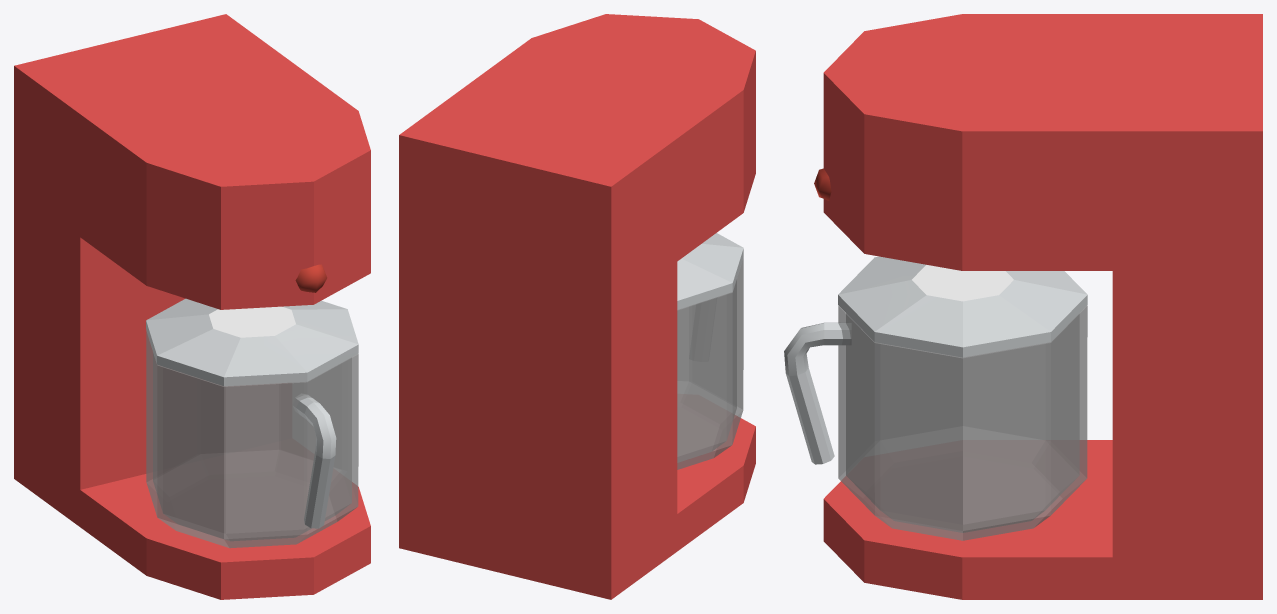
Rendered from Cafe Machine lv1.fbx.
3 renders of one model, left to right at view 1: azimuth 30°, elevation 25°; view 2: azimuth 150°, elevation 25°; view 3: azimuth 270°, elevation 25°, orthographic. The views are drawn at different scales.
Visible parts, largest first — view 1: Cafe_Machine_lv1; view 2: Cafe_Machine_lv1; view 3: Cafe_Machine_lv1.
Part boxes in pixels (<box>): Cafe_Machine_lv1: <box>14,14,370,599</box>; Cafe_Machine_lv1: <box>399,14,755,599</box>; Cafe_Machine_lv1: <box>784,14,1262,599</box>.
Size of the model in its own units: 56.59 by 105 by 97.54.
